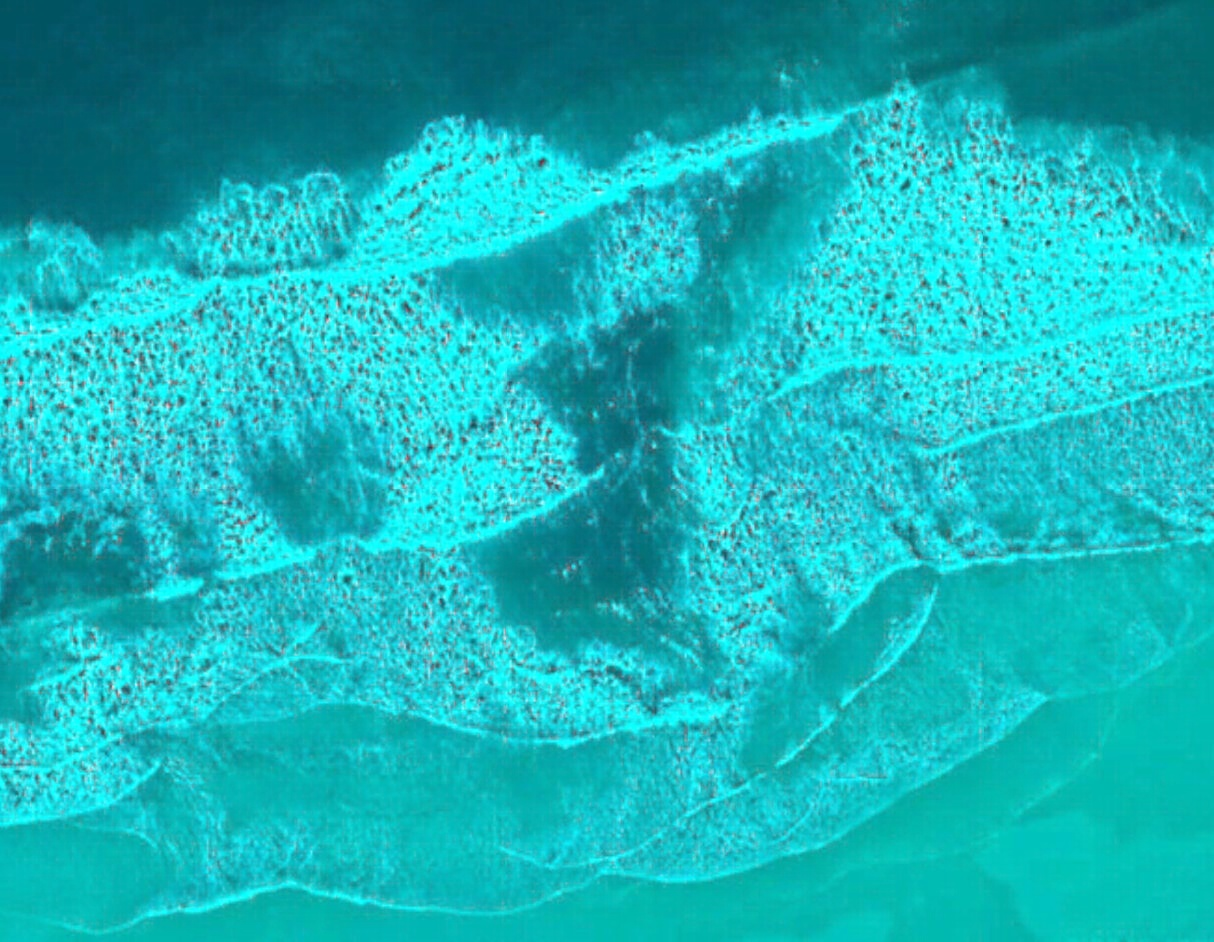rip_current: (398, 160, 800, 685)
